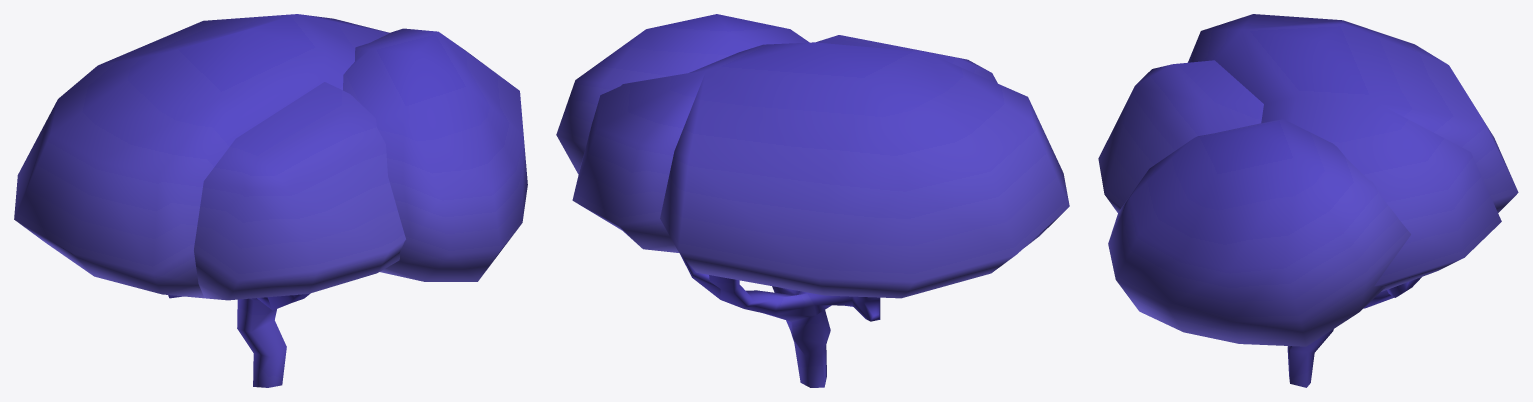
Rendered from CoralLA.fbx.
The picture shows the model from 3 angles, left to right: view 1: azimuth 30°, elevation 25°; view 2: azimuth 150°, elevation 25°; view 3: azimuth 270°, elevation 25°; orthographic projection. The views are drawn at different scales.
Visible parts, largest first — view 1: CoralLA; view 2: CoralLA; view 3: CoralLA.
Part boxes in pixels (x1,y1,x2,y2): CoralLA: (14,14,527,387); CoralLA: (556,14,1069,387); CoralLA: (1098,14,1518,387).
Bounding box in the file's own units: 108 × 75.92 × 85.75.
1 material, 1 textured.
